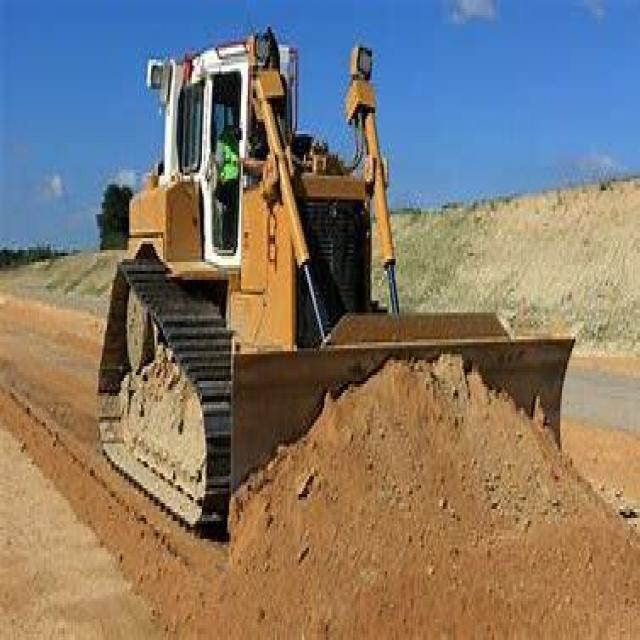Bulldozer: (80, 27, 606, 613)
